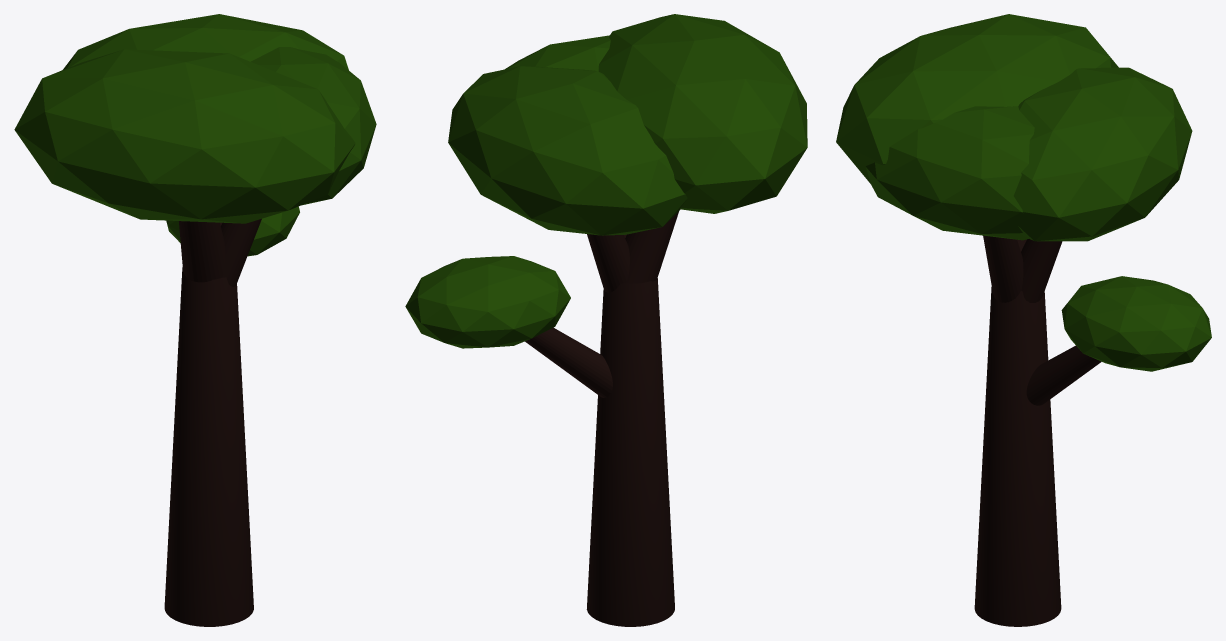
The model's file is tree.obj.
The picture shows the model from 3 angles, left to right: view 1: azimuth 30°, elevation 25°; view 2: azimuth 150°, elevation 25°; view 3: azimuth 270°, elevation 25°; orthographic projection. The views are drawn at different scales.
Parts seen in each view (by area): view 1: Icosphere.001, Cylinder, Icosphere.003, Icosphere.002, Cylinder.004, Cylinder.001, Icosphere; view 2: Icosphere.003, Icosphere.001, Cylinder, Icosphere, Cylinder.005, Icosphere.002, Cylinder.004, Cylinder.002; view 3: Icosphere.003, Cylinder, Icosphere.001, Icosphere.002, Icosphere, Cylinder.005, Cylinder.001, Cylinder.002.
Part boxes in pixels (x1,y1,x2,y2): Icosphere.001: [14, 49, 355, 223]; Cylinder: [164, 267, 253, 626]; Icosphere.003: [63, 14, 348, 70]; Icosphere.002: [251, 47, 376, 205]; Cylinder.004: [179, 221, 225, 282]; Cylinder.001: [221, 219, 261, 286]; Icosphere: [166, 206, 299, 256]; Icosphere.003: [448, 66, 687, 235]; Icosphere.001: [598, 14, 807, 213]; Cylinder: [586, 278, 674, 626]; Icosphere: [405, 256, 570, 348]; Cylinder.005: [525, 327, 612, 397]; Icosphere.002: [505, 35, 610, 71]; Cylinder.004: [625, 211, 678, 283]; Cylinder.002: [587, 234, 629, 292]; Icosphere.003: [1013, 67, 1192, 241]; Cylinder: [974, 286, 1061, 626]; Icosphere.001: [836, 14, 1118, 183]; Icosphere.002: [865, 106, 1034, 240]; Icosphere: [1061, 276, 1211, 371]; Cylinder.005: [1026, 345, 1101, 405]; Cylinder.001: [983, 235, 1023, 302]; Cylinder.002: [1021, 239, 1062, 302].
Size of the model in its own units: 13.9 by 23.33 by 14.38.
